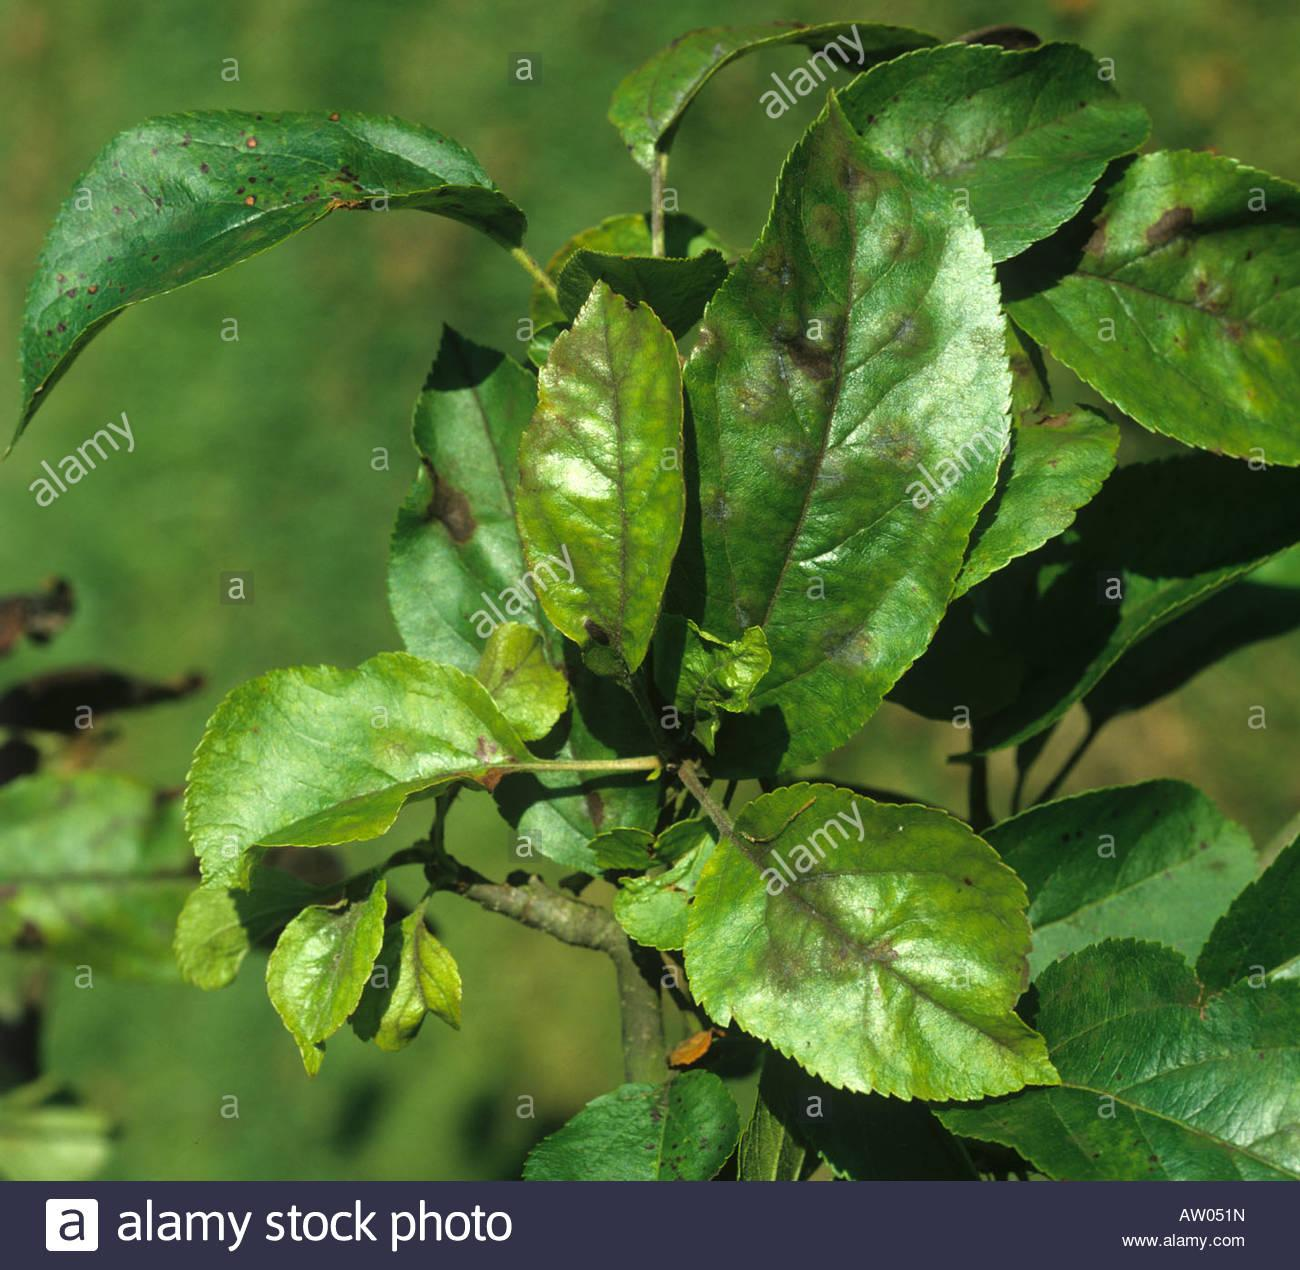Apple Scab Leaf: (684, 92, 1010, 805), (684, 749, 1070, 1160), (166, 611, 676, 851), (783, 5, 1149, 308), (1026, 126, 1300, 493), (516, 288, 735, 726)
